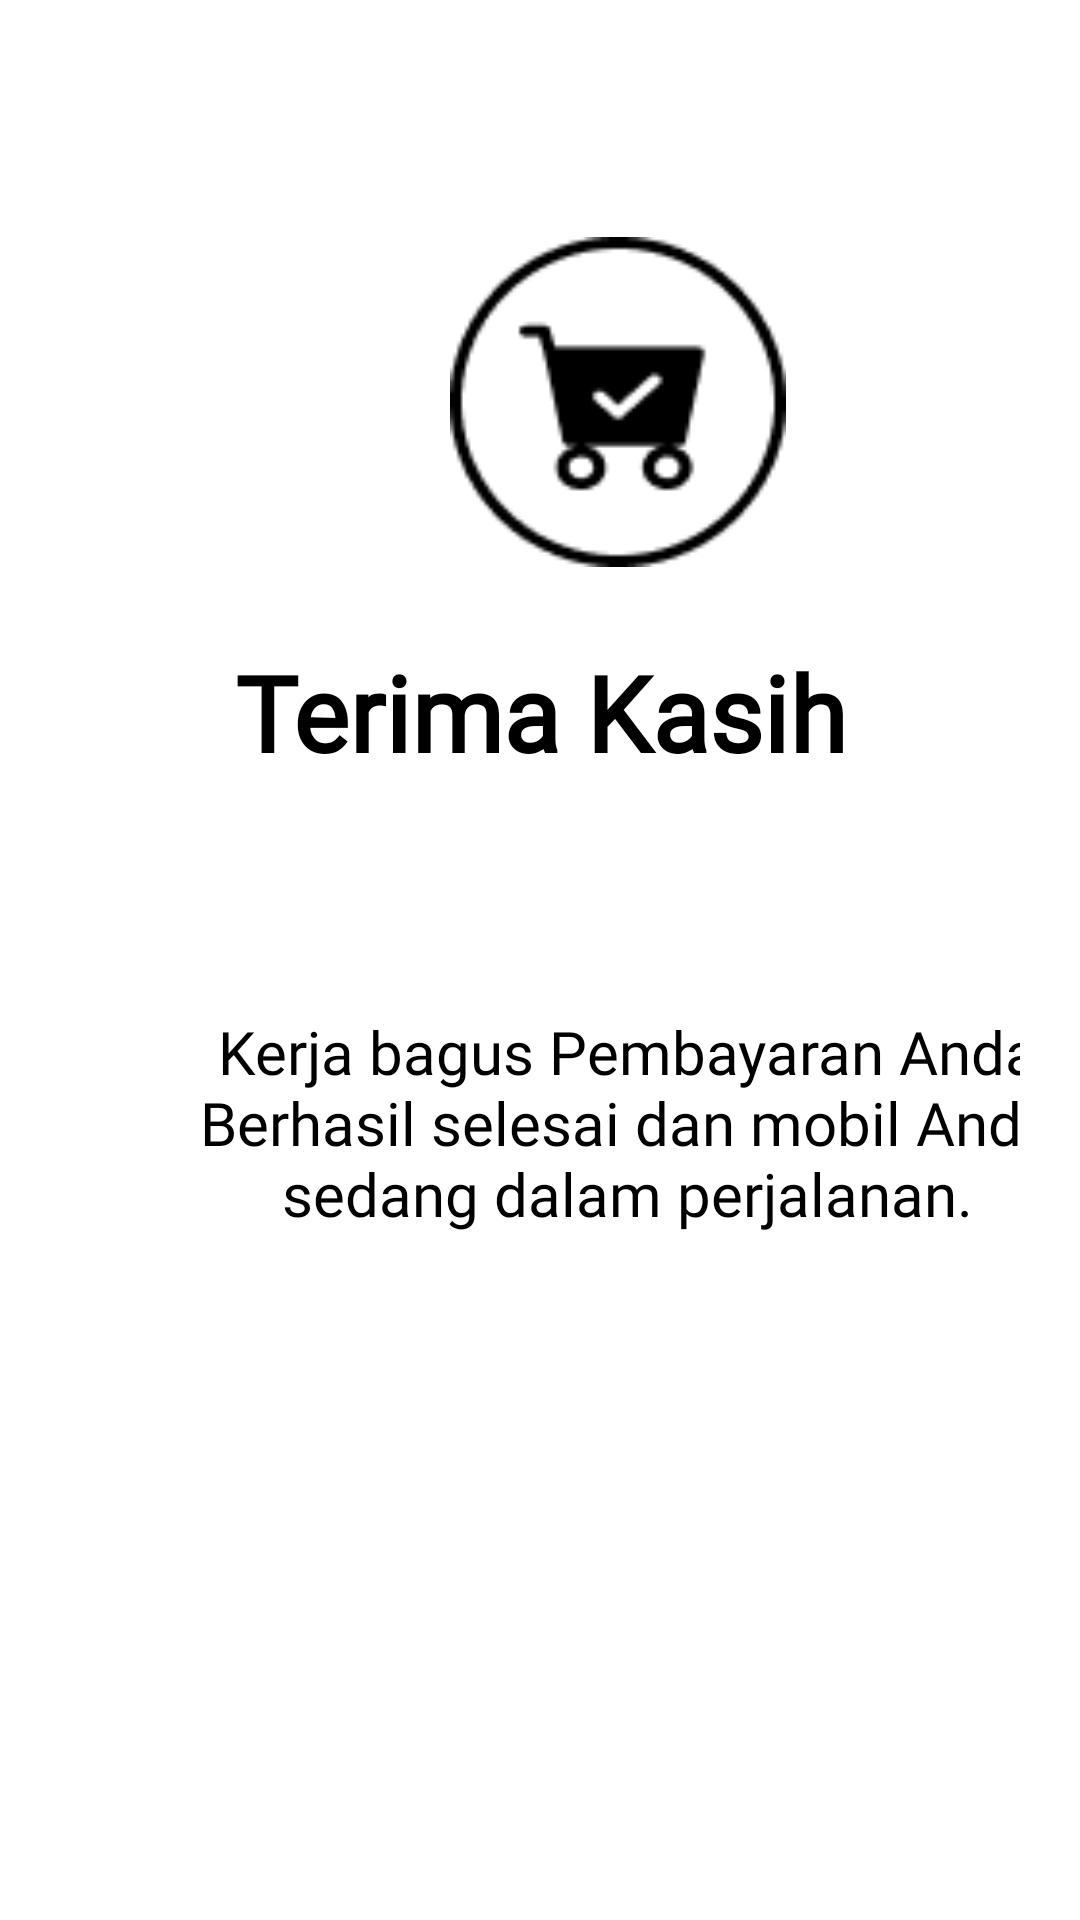

Point at icon controls on the screen. Image size 1080px x 1920px, points as point (x, y).
keranjang: point (618, 402)
